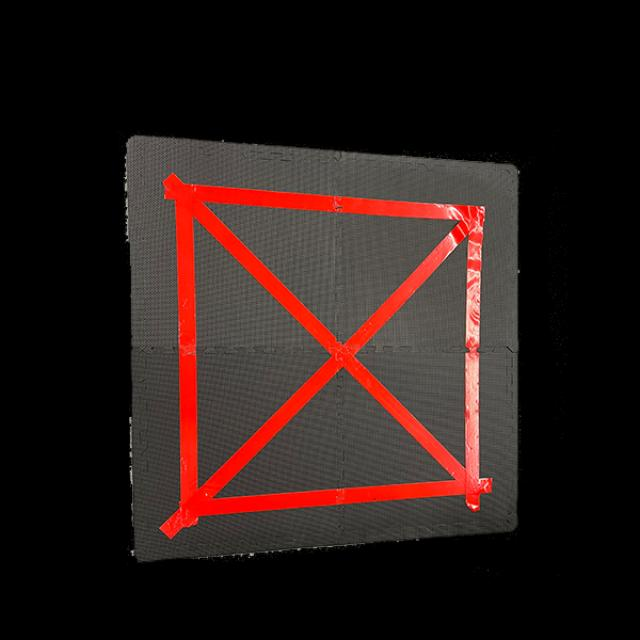landingPads: (127, 138, 518, 559)
